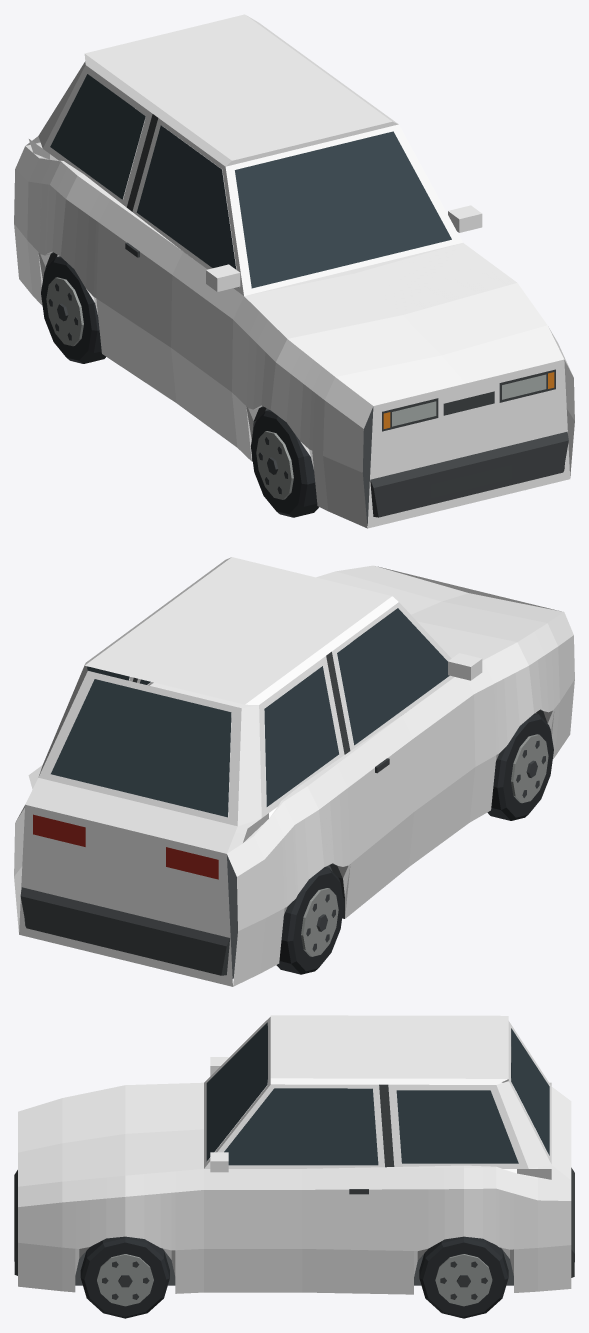
Rendered from kanaya_fuyu_85.glb.
The picture shows the model from 3 angles, top to bottom: view 1: azimuth 30°, elevation 25°; view 2: azimuth 150°, elevation 25°; view 3: azimuth 270°, elevation 25°; orthographic projection. The views are drawn at different scales.
Visible parts, largest first — view 1: kanaya_fuyu_85; view 2: kanaya_fuyu_85; view 3: kanaya_fuyu_85.
Part boxes in pixels (bbox=[...]): kanaya_fuyu_85: bbox=[14, 14, 574, 528]; kanaya_fuyu_85: bbox=[14, 557, 574, 986]; kanaya_fuyu_85: bbox=[14, 1015, 574, 1318].
Bounding box in the file's own units: 1.61 × 1.61 × 3.66.
Materials: 8 (1 with a texture image).
